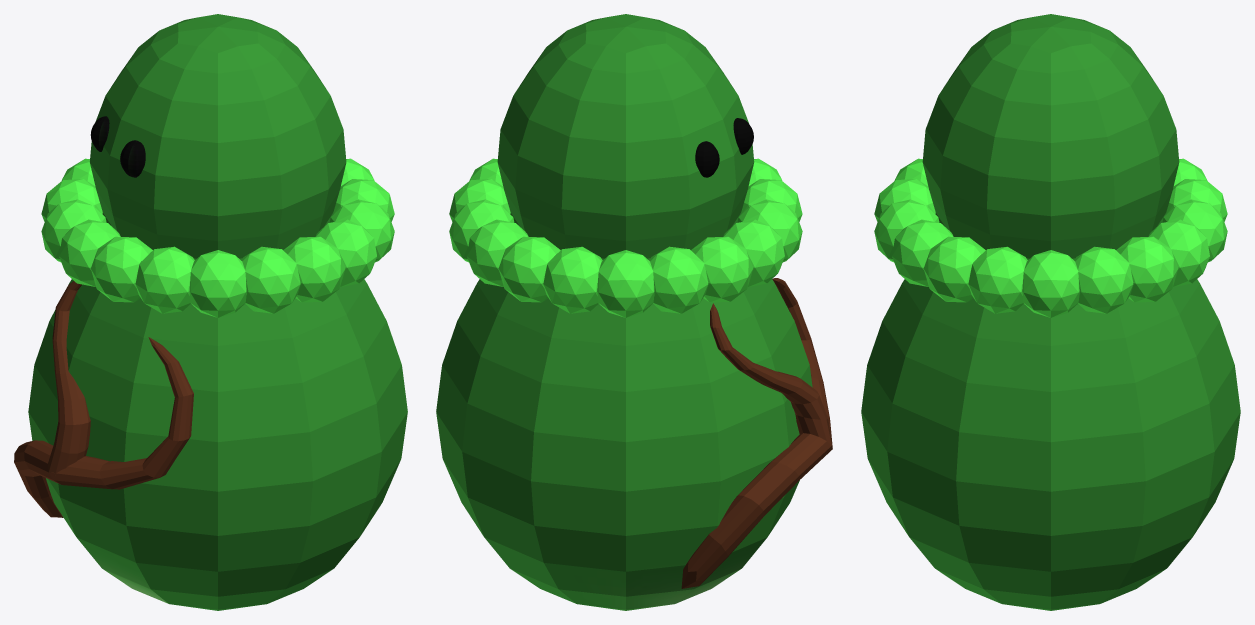
The model's file is blobpodmom.fbx.
3 views of the same model, side by side, from view 1: azimuth 30°, elevation 25°; view 2: azimuth 150°, elevation 25°; view 3: azimuth 270°, elevation 25° (orthographic).
Visible parts, largest first — view 1: Sphere, Sphere.001, Cylinder; view 2: Sphere, Sphere.001, Cylinder; view 3: Sphere, Sphere.001.
Boxes of the visible parts, bbox=[...] form: Sphere: bbox=[28, 14, 407, 610]; Sphere.001: bbox=[41, 158, 394, 317]; Cylinder: bbox=[14, 281, 193, 517]; Sphere: bbox=[436, 14, 812, 610]; Sphere.001: bbox=[449, 158, 802, 317]; Cylinder: bbox=[681, 278, 832, 588]; Sphere: bbox=[861, 14, 1240, 610]; Sphere.001: bbox=[874, 158, 1227, 317].
Size of the model in its own units: 281 by 300 by 461.
